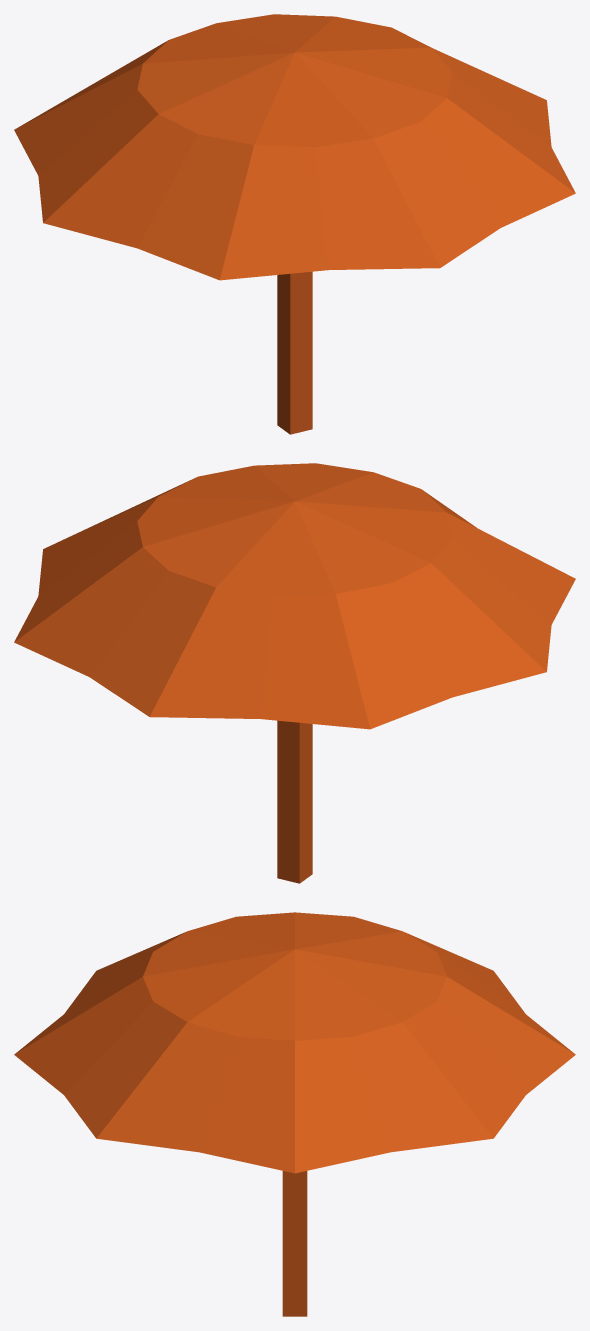
The model's file is guarda_sol.fbx.
3 renders of one model, top to bottom at view 1: azimuth 30°, elevation 25°; view 2: azimuth 150°, elevation 25°; view 3: azimuth 270°, elevation 25°, orthographic. The views are drawn at different scales.
Parts seen in each view (by area): view 1: Sphere; view 2: Sphere; view 3: Sphere.
Boxes of the visible parts, left/top/right/bottom form: Sphere: left=14, top=14, right=575, bottom=434; Sphere: left=14, top=463, right=575, bottom=883; Sphere: left=14, top=912, right=575, bottom=1316.
Bounding box in the file's own units: 1.41 × 1.01 × 1.41.
